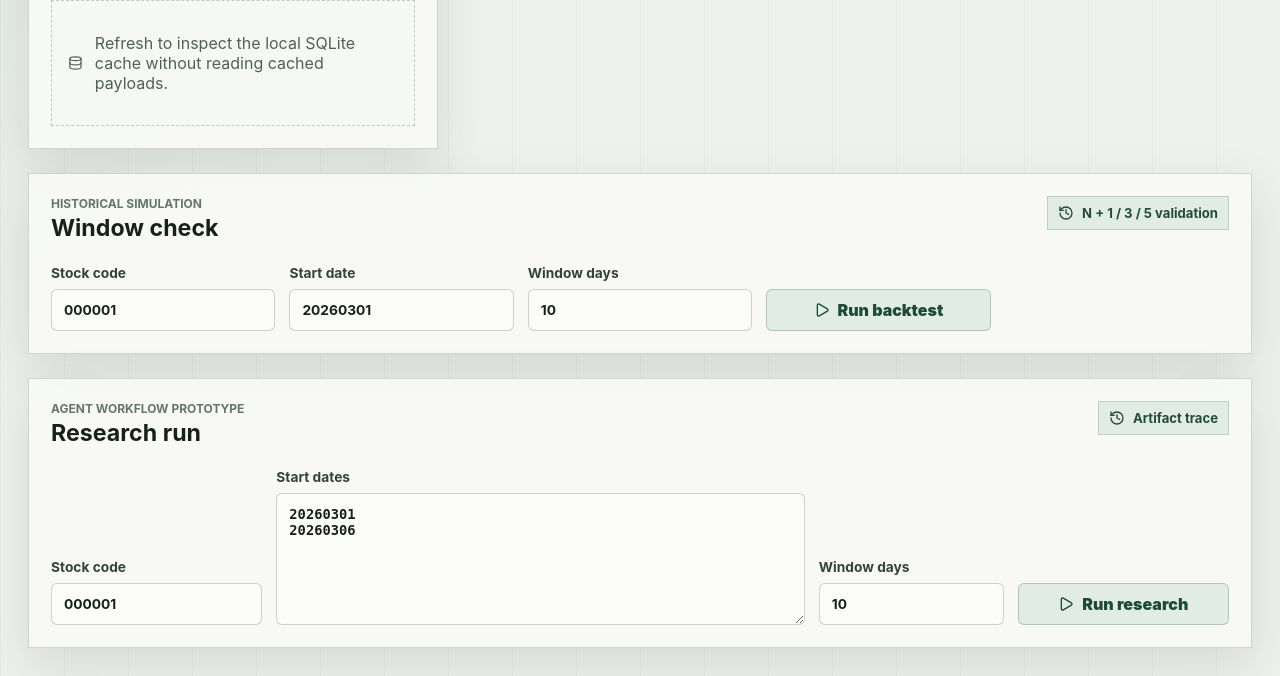
Test: App › renders a safe zero cache panel for older research responses without cache summary
The width and height of the screenshot is (1280, 676).
(page scrolled)
Click the button "Run research" at (1123, 604), box [1018, 583, 1229, 625]
(page scrolled)
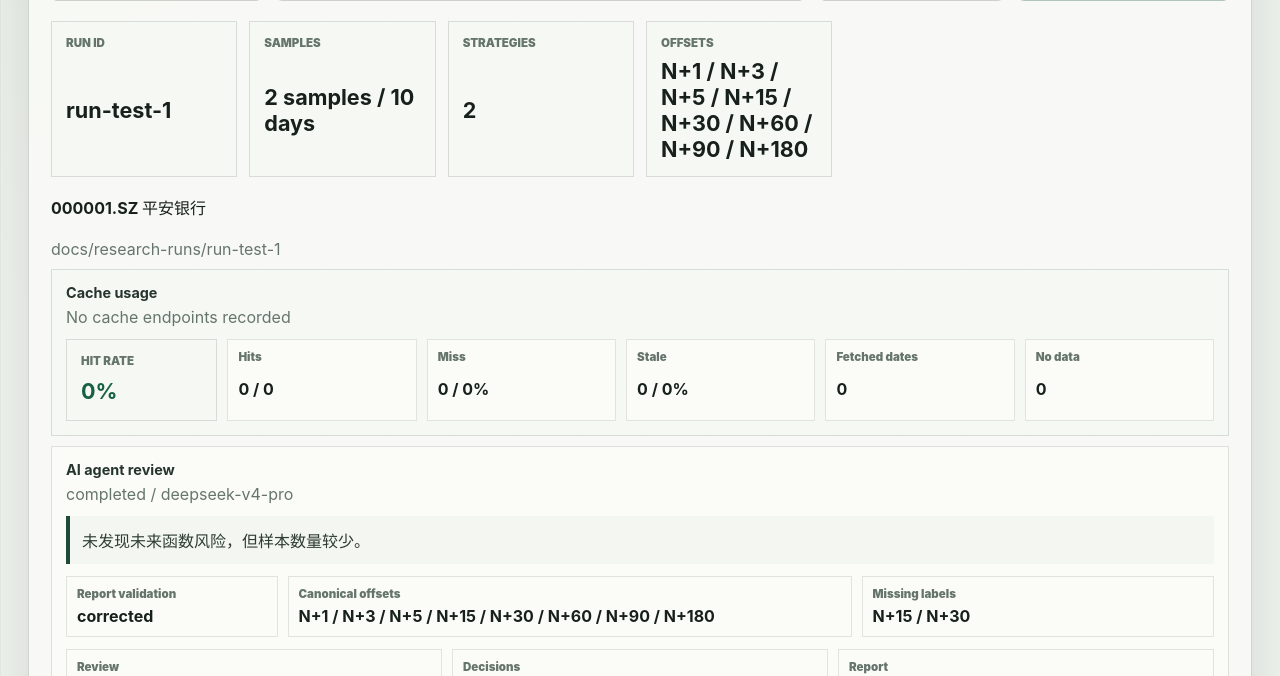
Result: the text "0%" is shown at [81, 378, 118, 404]
Result: the text "0 / 0" is shown at [238, 379, 274, 399]
Result: the text "No cache endpoints recorded" is shown at [66, 307, 291, 327]
